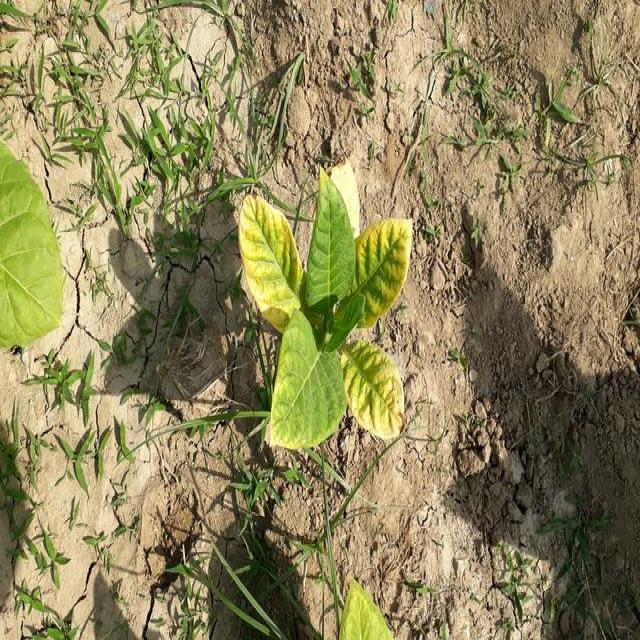crop: (229, 167, 424, 476)
